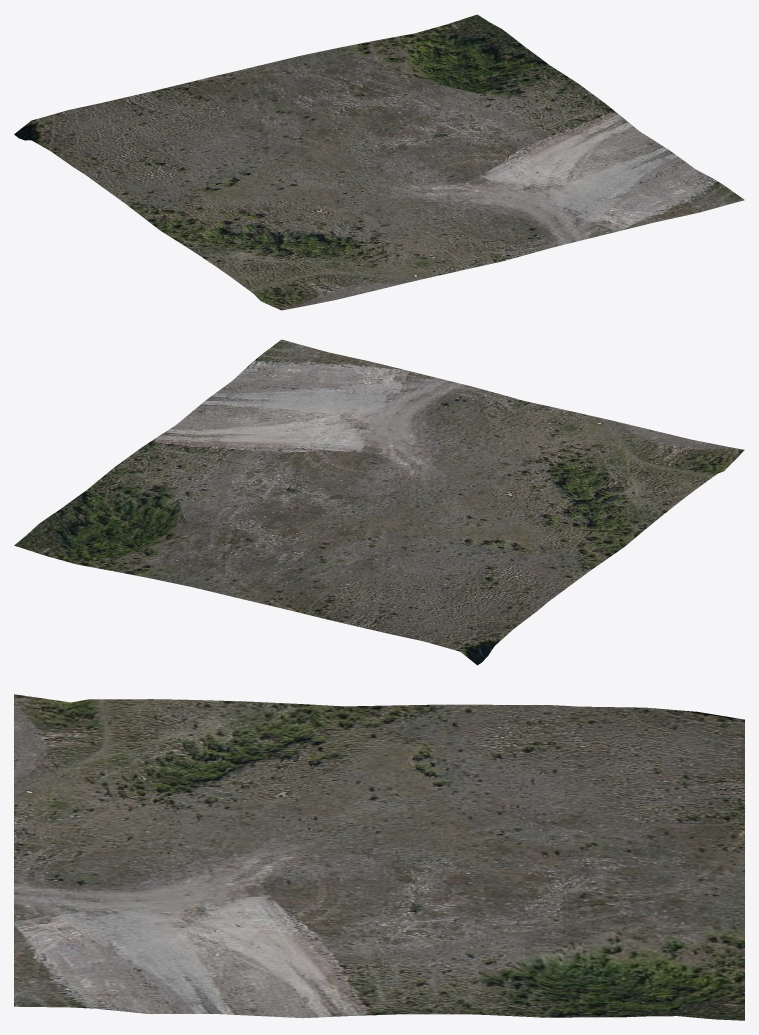
File: map_15_8177_13780.dae
The picture shows the model from 3 angles, top to bottom: view 1: azimuth 30°, elevation 25°; view 2: azimuth 150°, elevation 25°; view 3: azimuth 270°, elevation 25°; orthographic projection. The views are drawn at different scales.
Parts seen in each view (by area): view 1: Ter0; view 2: Ter0; view 3: Ter0.
Boxes of the visible parts, left/top/right/bottom form: Ter0: left=14, top=14, right=744, bottom=310; Ter0: left=14, top=339, right=744, bottom=665; Ter0: left=14, top=694, right=744, bottom=1020.
Bounding box in the file's own units: 63.87 × 63.88 × 3.01.
Materials: 3 (3 with a texture image).
